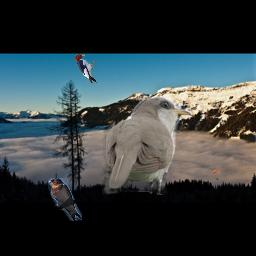Cuckoo: (102, 96, 192, 195)
Swallow: (48, 178, 82, 221)
Woodpecker: (74, 53, 98, 84)
